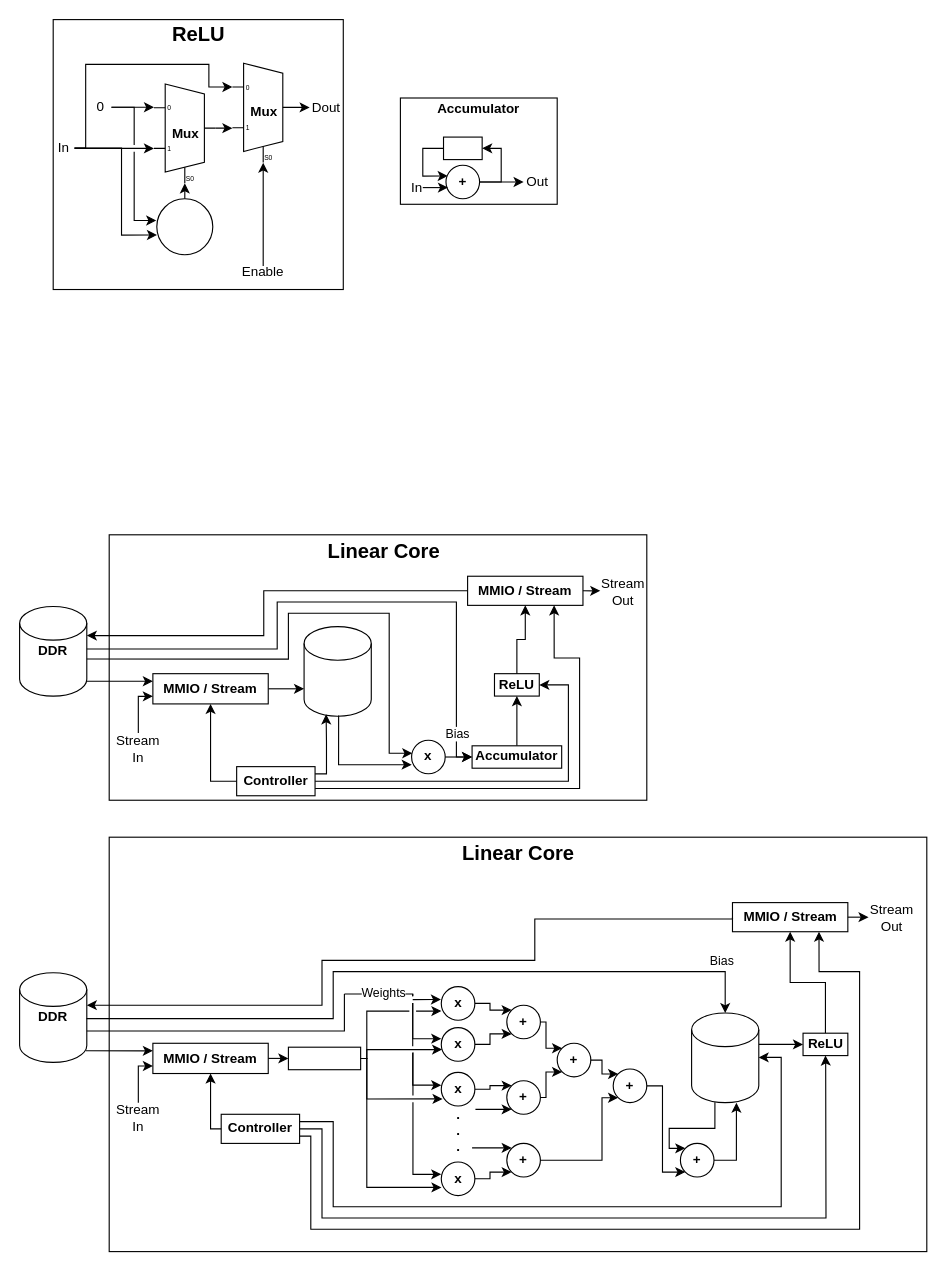
Some shapes in this 946 by 1271 pixel diagram are drawn without their labels. The centre of each missing label's shape, as x and y in pixels:
BRAM Inputs: [337,671]
BRAM Outputs: [724,1057]
D0 > D1: [184,226]
Input-Reg: [324,1058]
Reg: [462,148]
